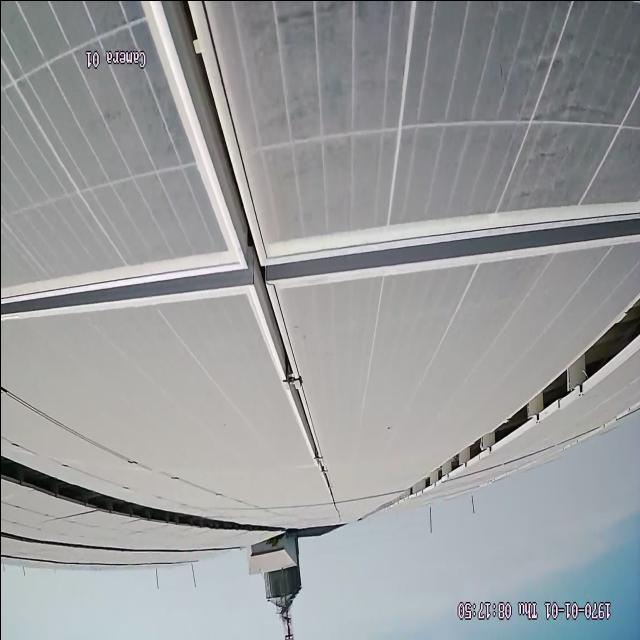interior panel: (0, 1, 639, 502)
outher panel: (404, 291, 640, 498), (3, 452, 262, 531)
